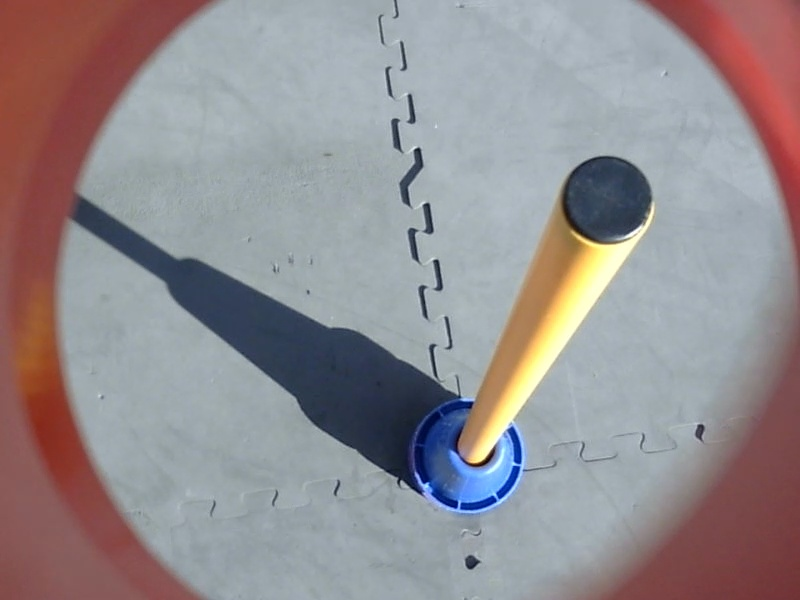tip: (555, 151, 664, 252)
